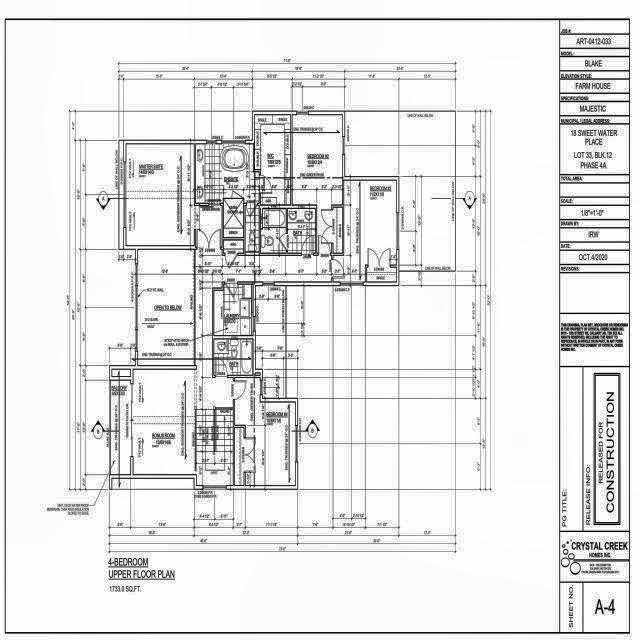room: (292, 115, 342, 253), (235, 378, 295, 485), (333, 181, 396, 282), (196, 144, 259, 203), (255, 115, 291, 205), (214, 285, 253, 335), (214, 339, 253, 375), (288, 209, 315, 253), (261, 209, 286, 253), (196, 206, 222, 247), (245, 206, 259, 252), (235, 428, 244, 485), (333, 207, 342, 253)
